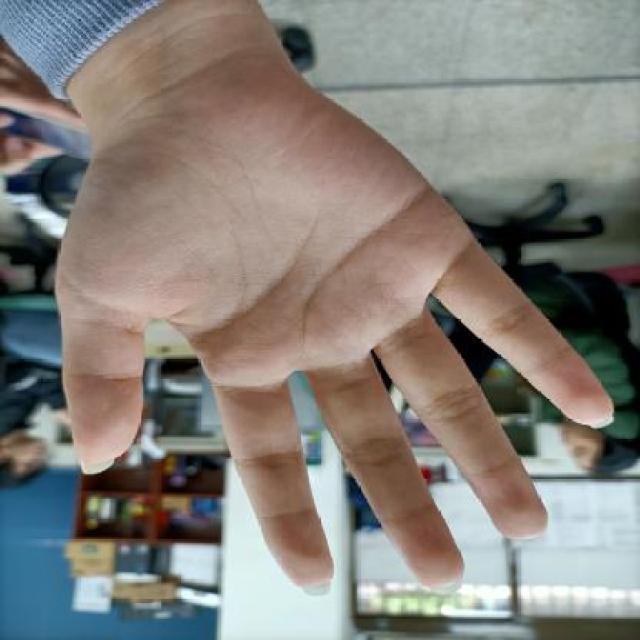bare_hand: (46, 55, 628, 608)
